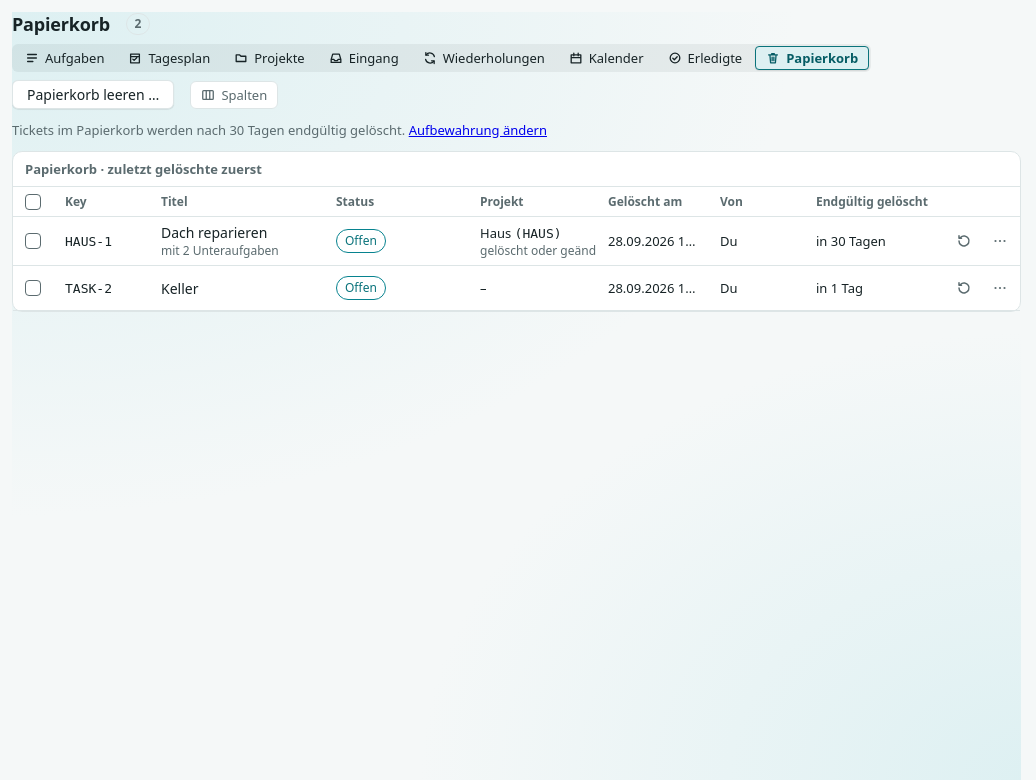
Test: view "Papierkorb" › restores a row and asks inline for a target project when the old one is gone
Click the button named "HAUS-1 wiederherstellen".
click(964, 241)  # box [948, 225, 980, 257]
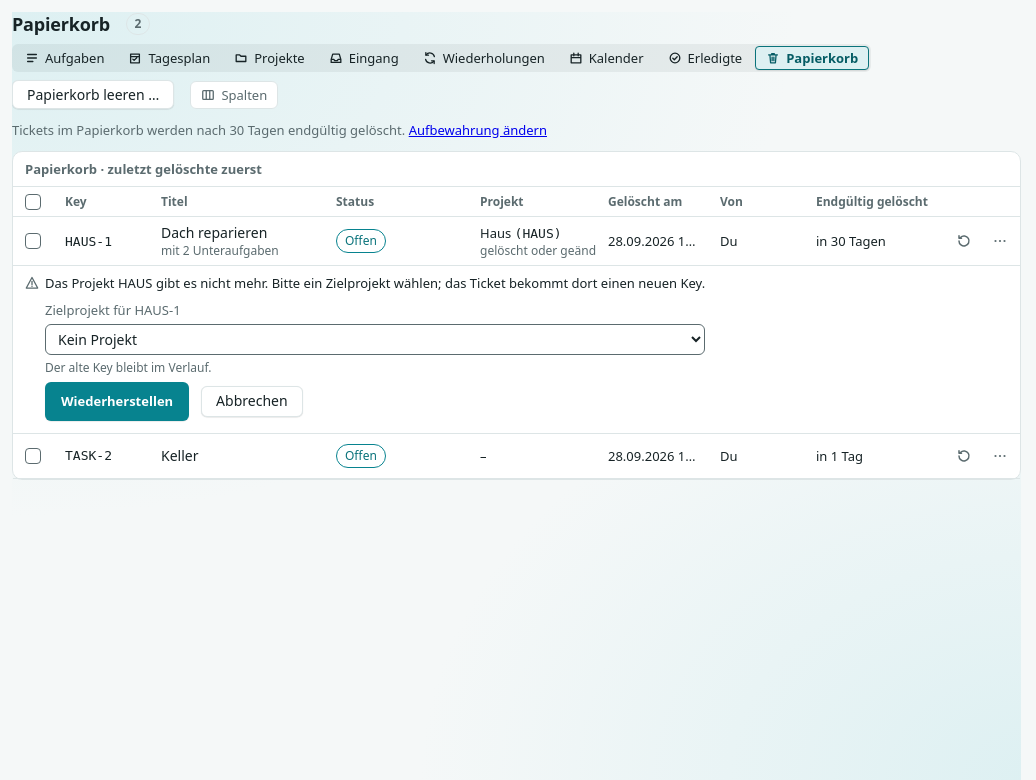
Now the text "Das Projekt HAUS gibt es nicht mehr" is shown, box [45, 274, 705, 292]
Now the text "Der alte Key bleibt im Verlauf." is shown, box [45, 359, 212, 376]
Select "Garten (GART)" in the dropdown labelled "Zielprojekt für HAUS-1" at (375, 339), box [45, 324, 705, 355]
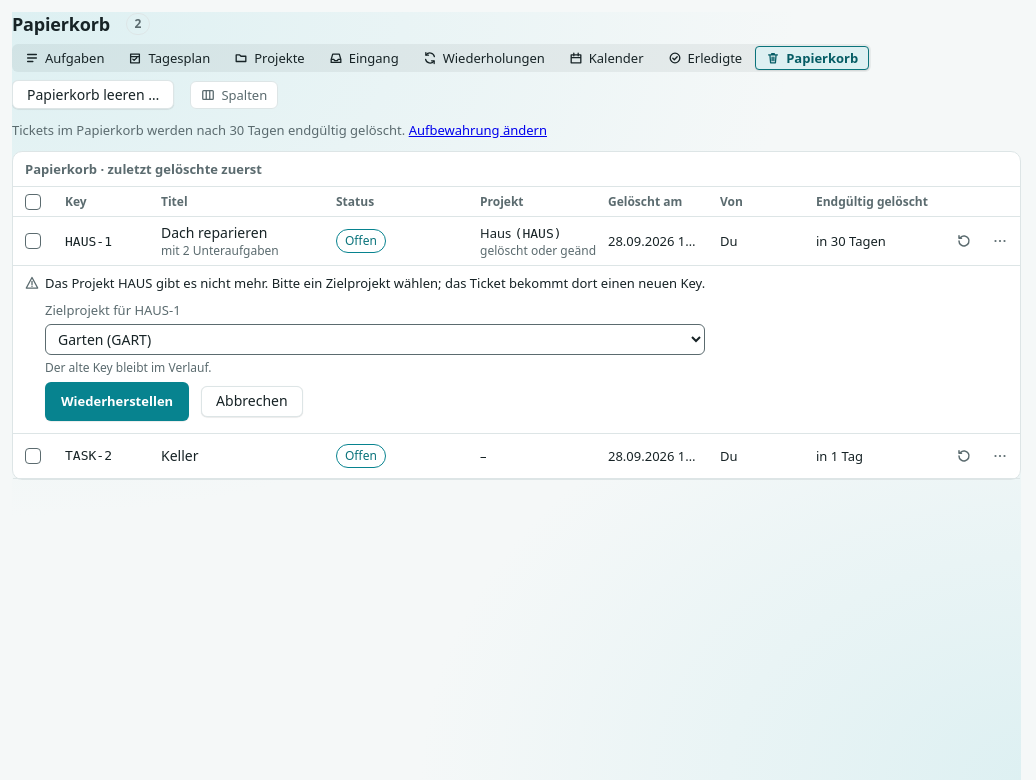
Click the button "Wiederherstellen".
click(117, 402)  # box [45, 382, 189, 421]
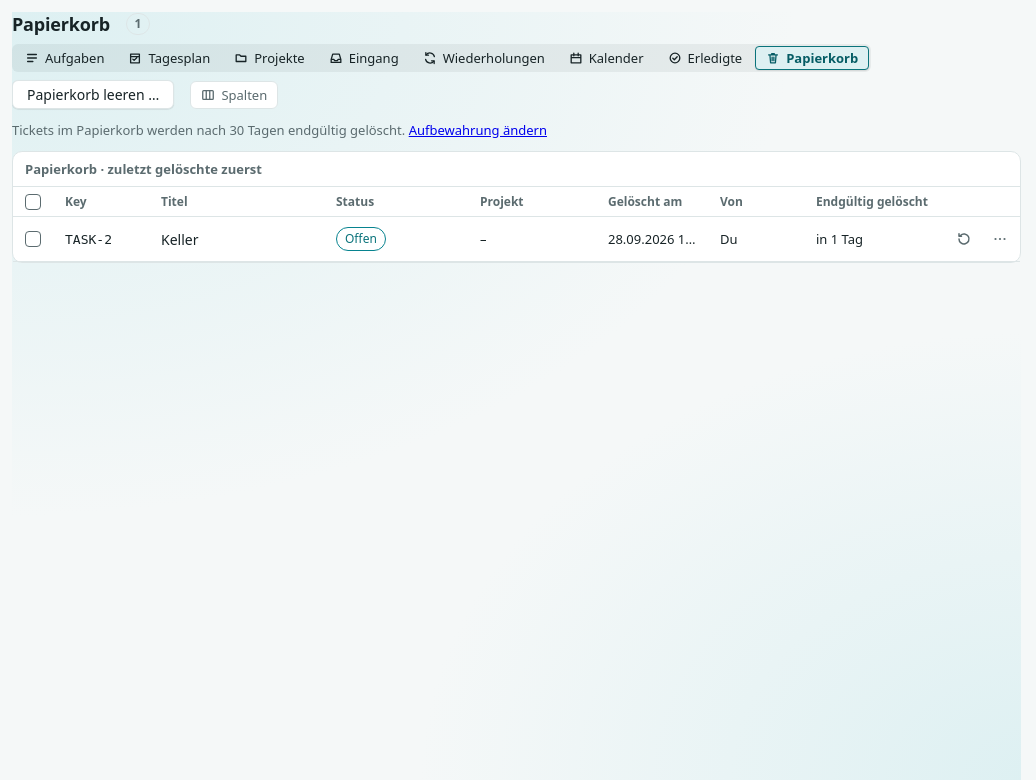
Now the link "Dach reparieren" is gone
